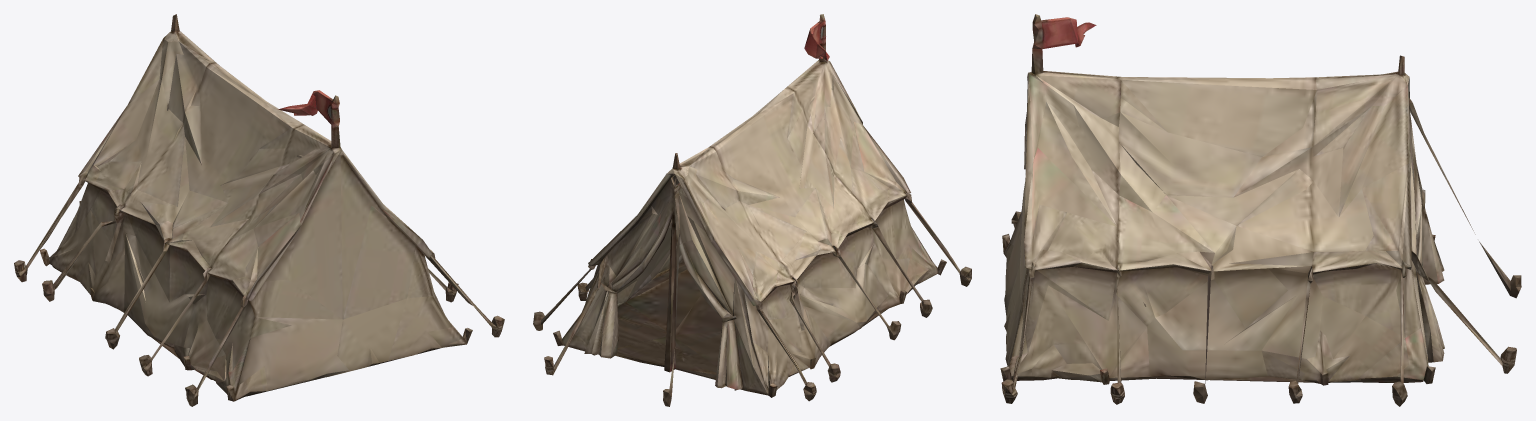
Rendered from tent_3d.glb.
3 views of the same model, side by side, from view 1: azimuth 30°, elevation 25°; view 2: azimuth 150°, elevation 25°; view 3: azimuth 270°, elevation 25° (orthographic). The views are drawn at different scales.
Visible parts, largest first — view 1: Mesh_0; view 2: Mesh_0; view 3: Mesh_0.
Part boxes in pixels (x1,y1,x2,y2): Mesh_0: (14,14,504,406); Mesh_0: (533,14,971,406); Mesh_0: (1000,14,1521,406).
Bounding box in the file's own units: 1.8 × 1.47 × 2.25.
Materials: 1 (1 with a texture image).
